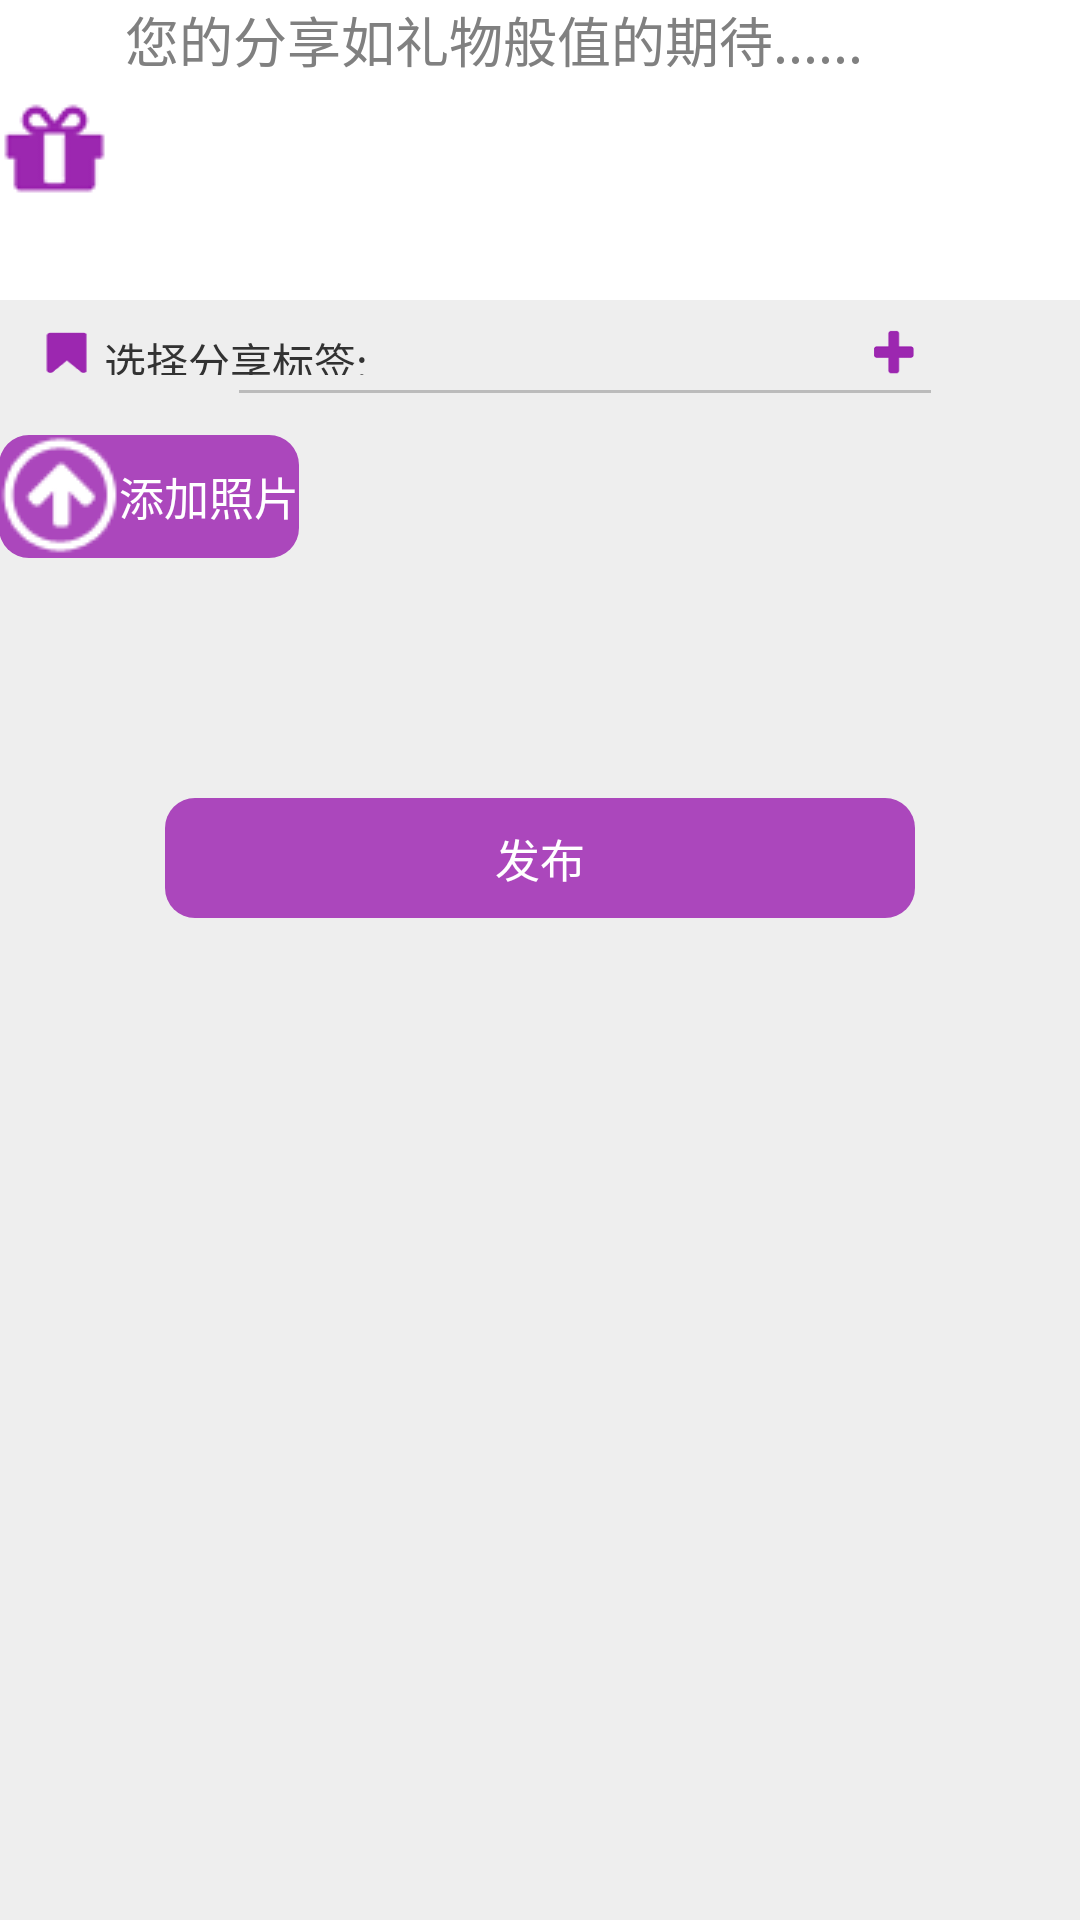

Icon bounding boxes for this 1080×1920 phone screenshot, format [x1, y1, x2, y2]:
label but plus: [874, 331, 914, 374]
